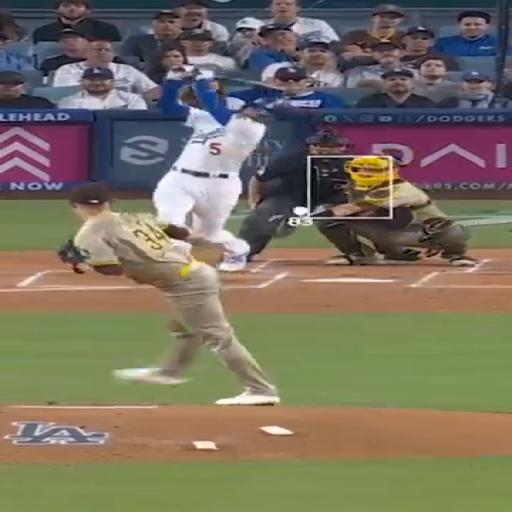bat: (198, 71, 292, 95)
